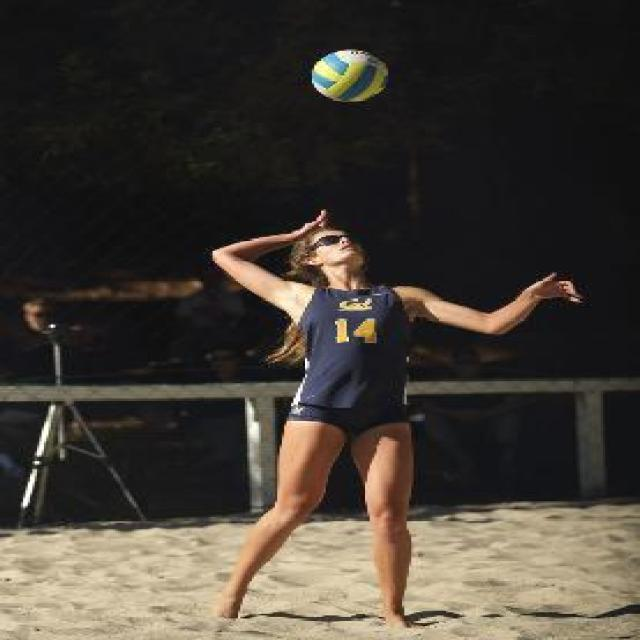volleyball: (312, 49, 389, 102)
